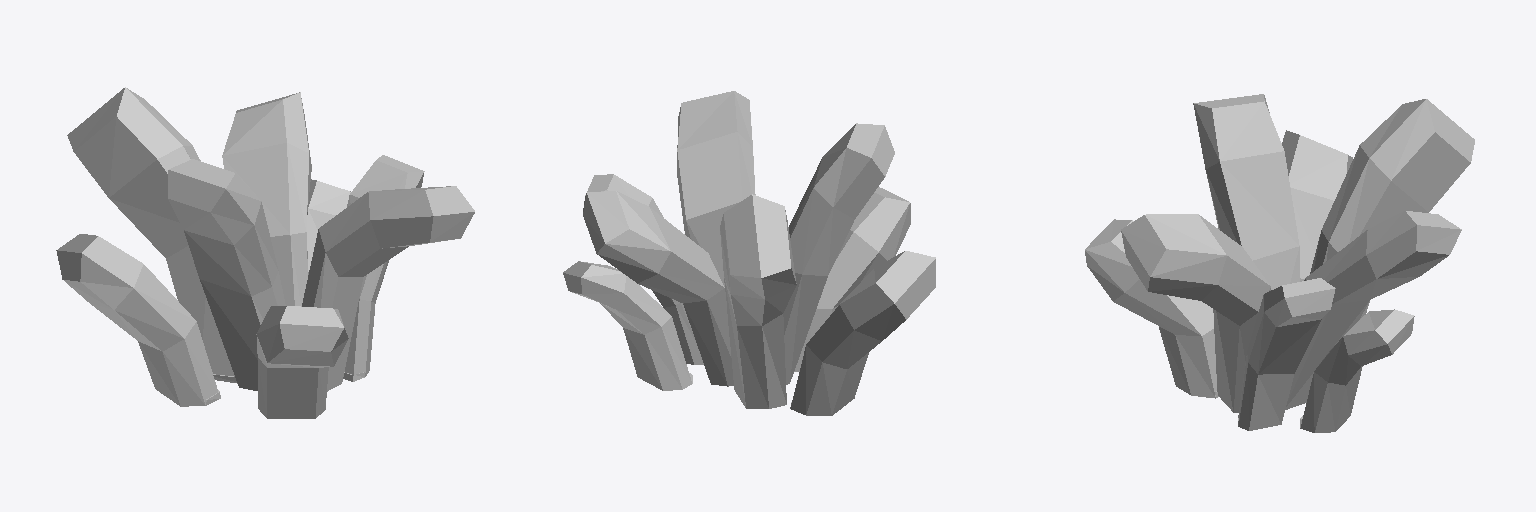
File: Anemone_A_02_LOD2.obj
3 views of the same model, side by side, from view 1: azimuth 30°, elevation 25°; view 2: azimuth 150°, elevation 25°; view 3: azimuth 270°, elevation 25° (orthographic).
Parts seen in each view (by area): view 1: Anemone_A_02_LOD2_Cylinder.412; view 2: Anemone_A_02_LOD2_Cylinder.412; view 3: Anemone_A_02_LOD2_Cylinder.412.
Part boxes in pixels (x1,y1,x2,y2): Anemone_A_02_LOD2_Cylinder.412: (56, 87, 474, 418); Anemone_A_02_LOD2_Cylinder.412: (563, 91, 935, 415); Anemone_A_02_LOD2_Cylinder.412: (1085, 94, 1474, 432).
Bounding box in the file's own units: 4.21 × 3.03 × 4.14.